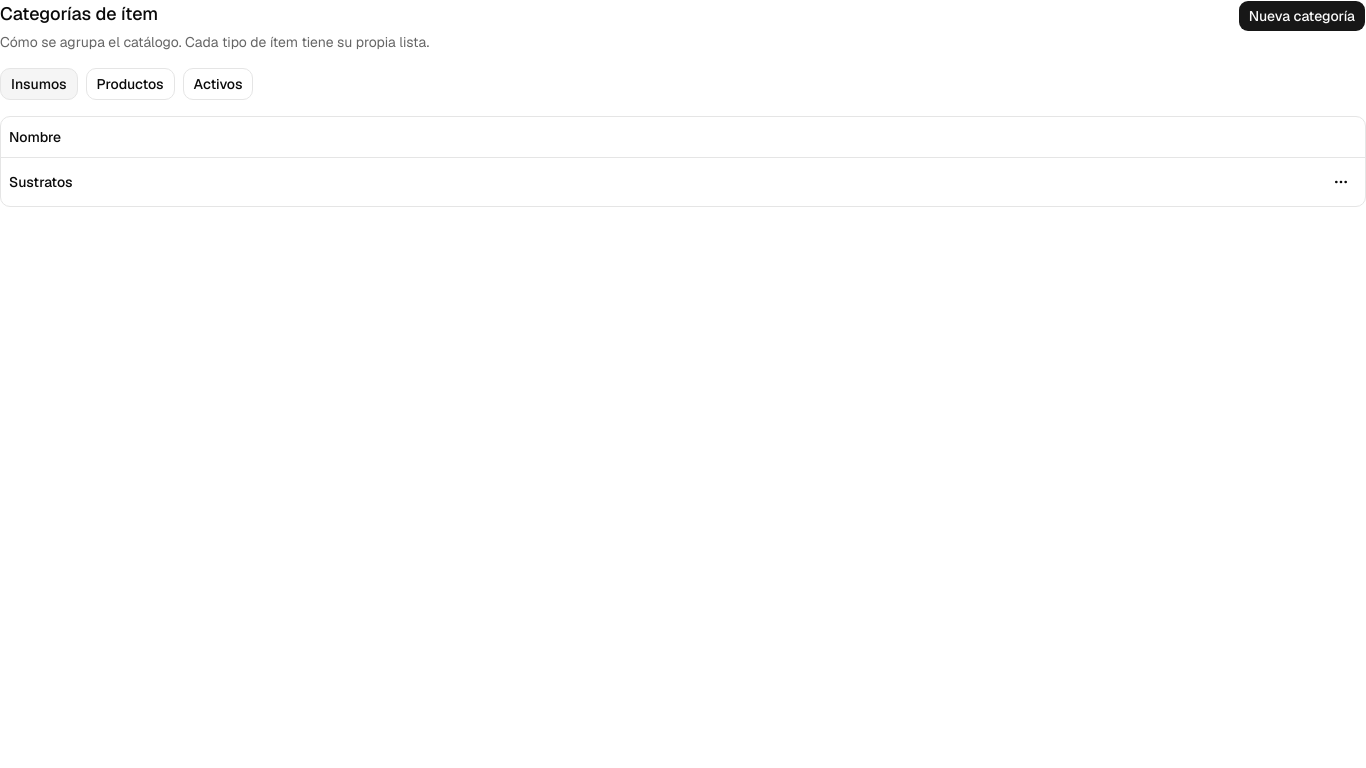
Test: ItemCategoriesSection › «Editar» abre el diálogo con el título del tipo y el nombre actual
The image size is (1366, 768).
Click the button named "Acciones de Sustratos". click: (1341, 182)
box: [1325,166,1357,198]
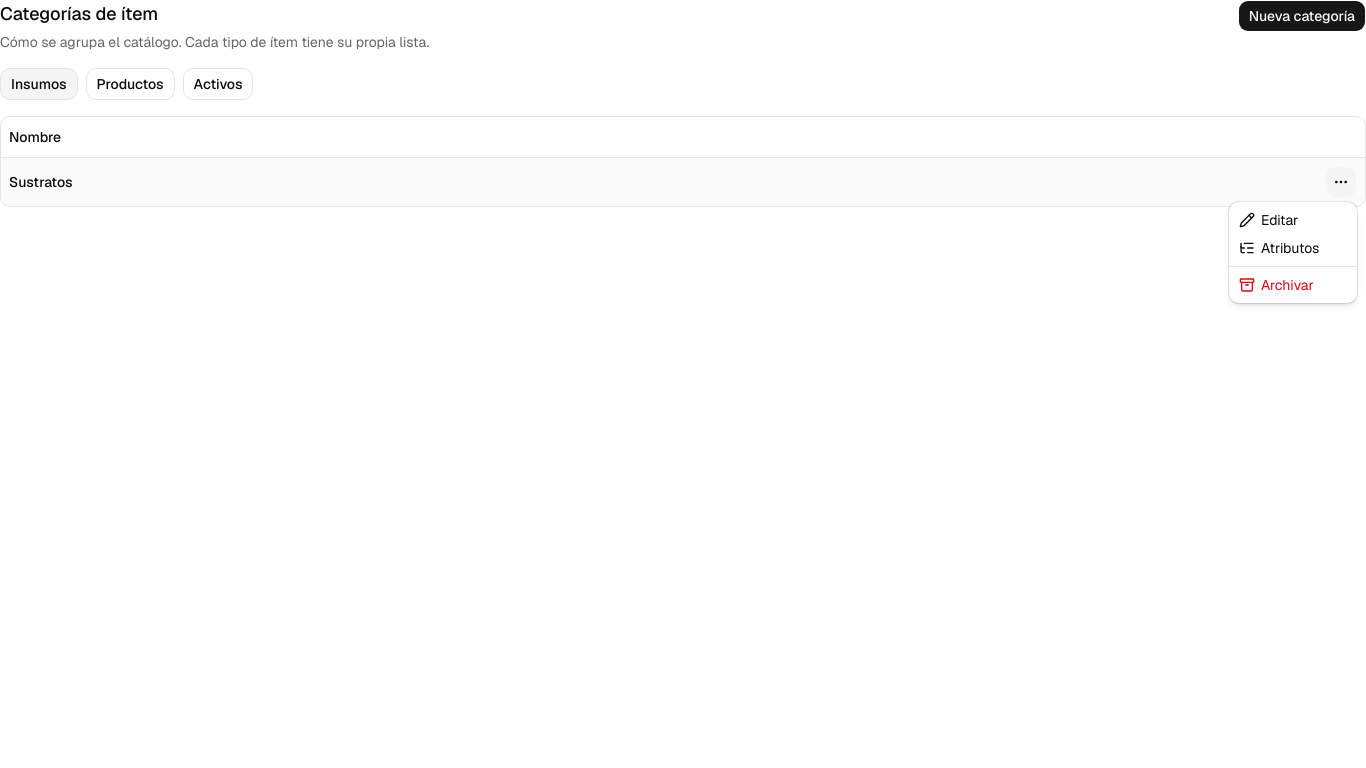
Click the menu item "Editar". click: (1269, 220)
box: [1239,211,1298,229]
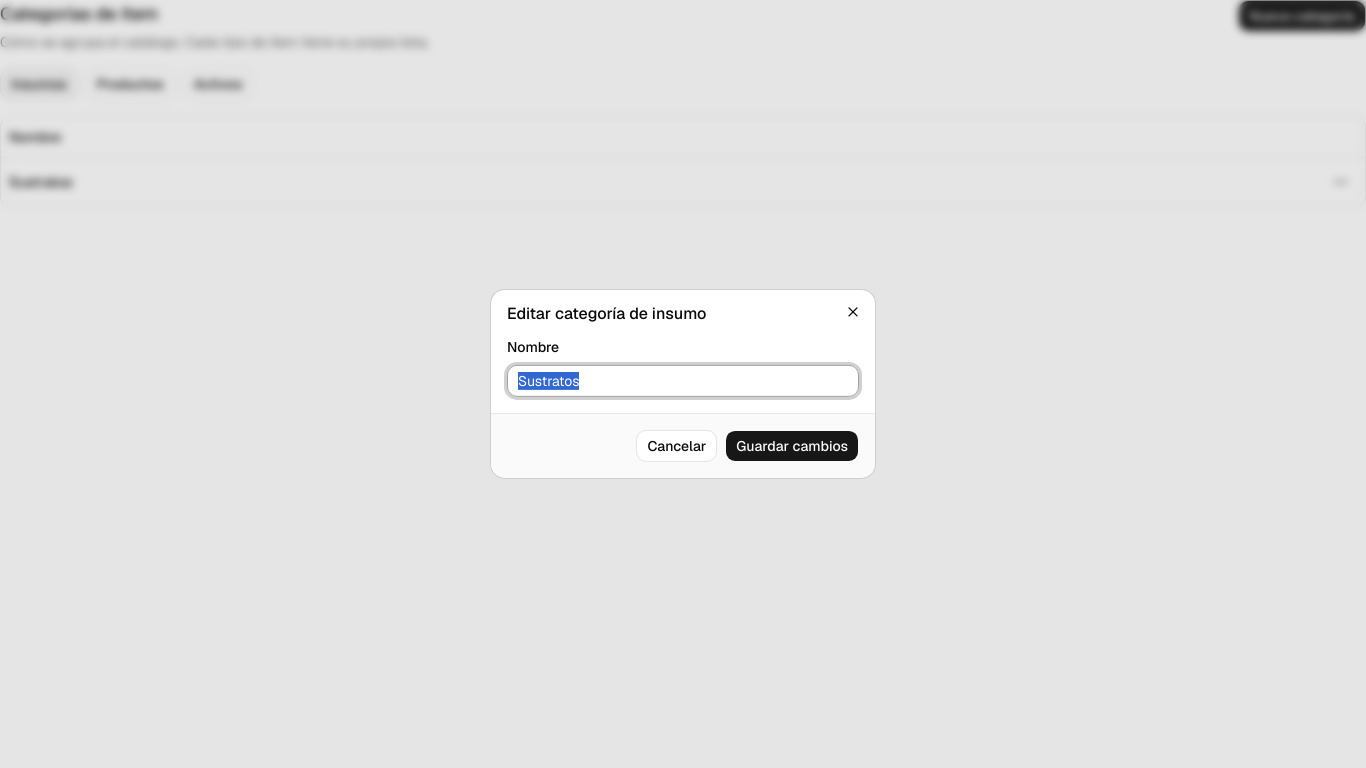
Check: the field labelled "Nombre" holds "Sustratos", box [507,365,859,397]
